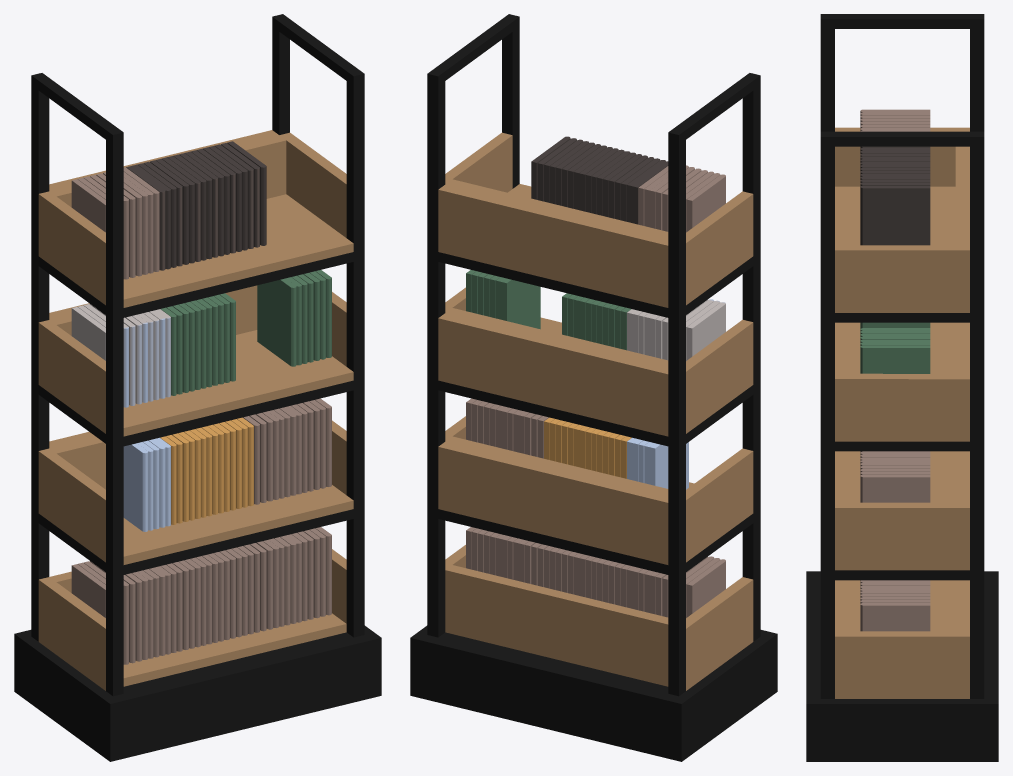
Rendered from loan_bookshelf.fbx.
3 renders of one model, left to right at view 1: azimuth 30°, elevation 25°; view 2: azimuth 150°, elevation 25°; view 3: azimuth 270°, elevation 25°, orthographic.
Parts seen in each view (by area): view 1: loan_bookshelf; view 2: loan_bookshelf; view 3: loan_bookshelf.
Part boxes in pixels (x1=…): loan_bookshelf: x1=14, y1=14, x2=381, y2=761; loan_bookshelf: x1=410, y1=14, x2=777, y2=761; loan_bookshelf: x1=806, y1=14, x2=998, y2=761.
Size of the model in its own units: 0.00515 by 0.0112 by 0.00315.
Materials: 1 (1 with a texture image).
